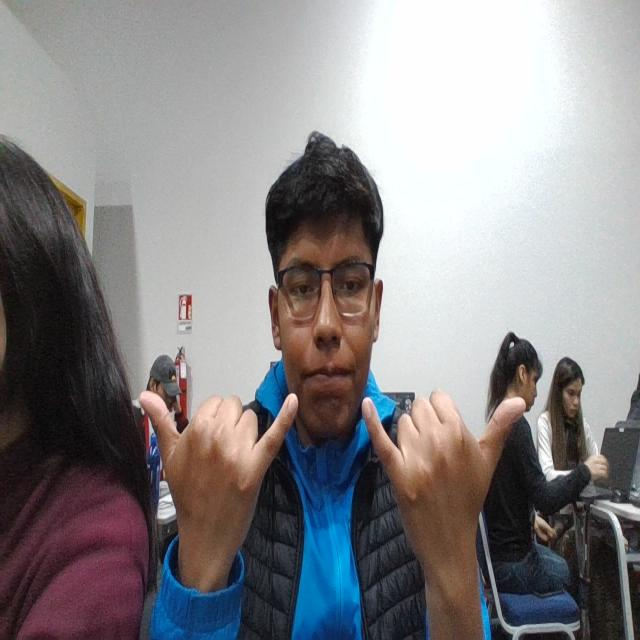now: (135, 380, 527, 580)
